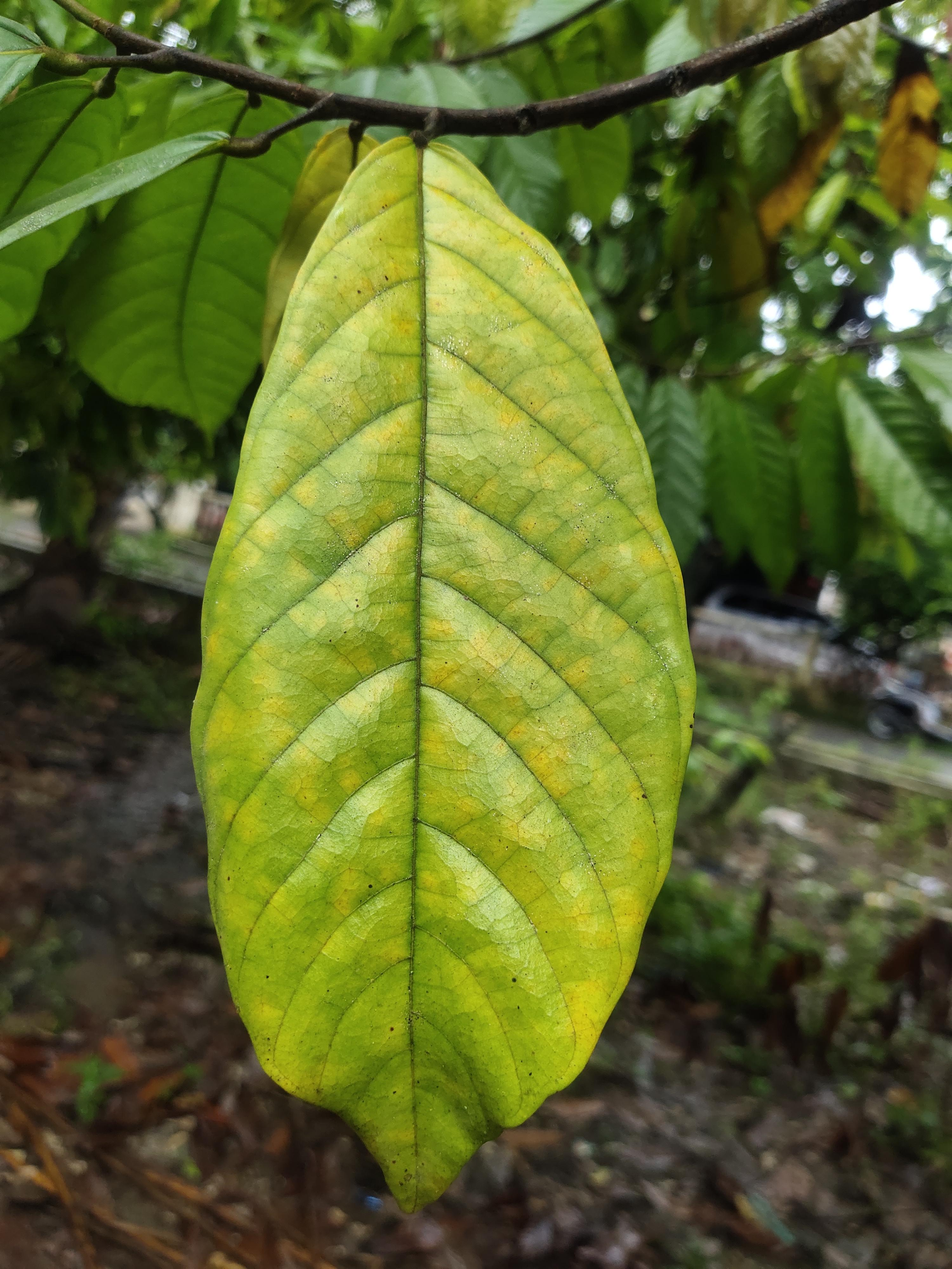deficiencia_potasio: (198, 127, 693, 1221)
